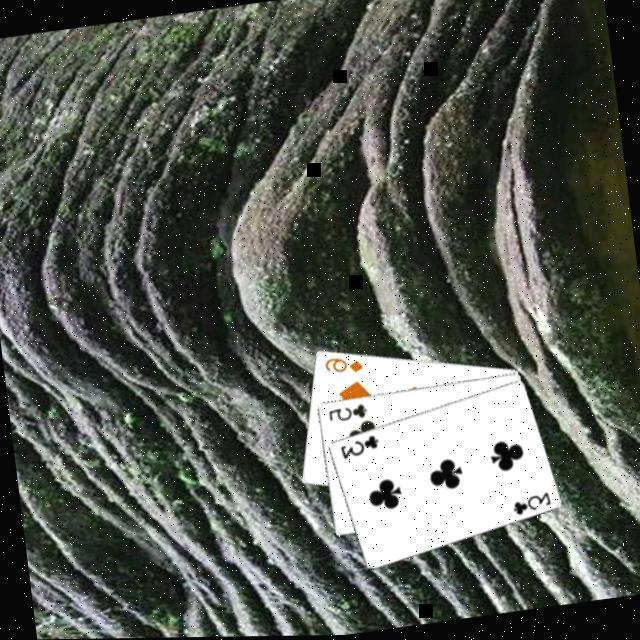3C: (334, 430, 381, 462), (506, 488, 553, 520)
5C: (323, 399, 369, 424)
6D: (319, 348, 366, 378)
